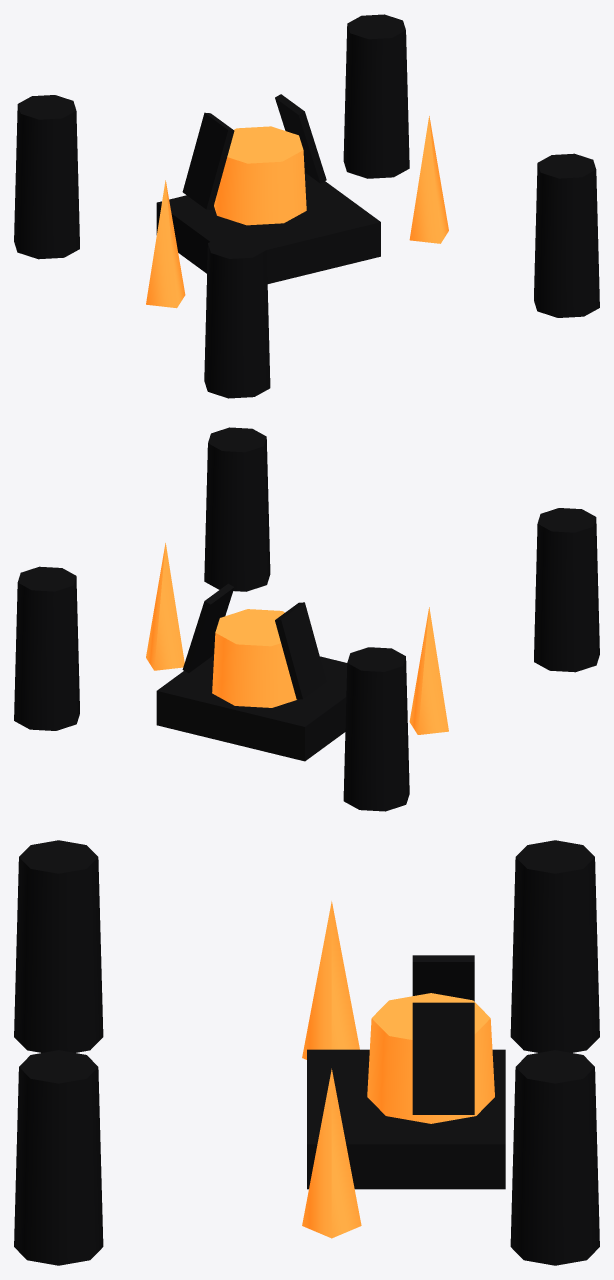
3 renders of one model, top to bottom at view 1: azimuth 30°, elevation 25°; view 2: azimuth 150°, elevation 25°; view 3: azimuth 270°, elevation 25°, orthographic. The views are drawn at different scales.
Visible parts, largest first — view 1: LT_07, losttower_flame_throne, losttower_magma_obelisks; view 2: LT_07, losttower_flame_throne, losttower_magma_obelisks; view 3: LT_07, losttower_flame_throne, losttower_magma_obelisks.
Boxes of the visible parts, bbox=[...] form: LT_07: bbox=[14, 14, 599, 398]; losttower_flame_throne: bbox=[182, 94, 326, 225]; losttower_magma_obelisks: bbox=[146, 116, 448, 308]; LT_07: bbox=[14, 427, 599, 811]; losttower_flame_throne: bbox=[182, 583, 326, 707]; losttower_magma_obelisks: bbox=[146, 543, 448, 734]; LT_07: bbox=[14, 840, 599, 1265]; losttower_flame_throne: bbox=[367, 955, 494, 1123]; losttower_magma_obelisks: bbox=[302, 901, 361, 1238].
Size of what is drawn, in the model's own units: 23.6 by 8 by 23.6.
